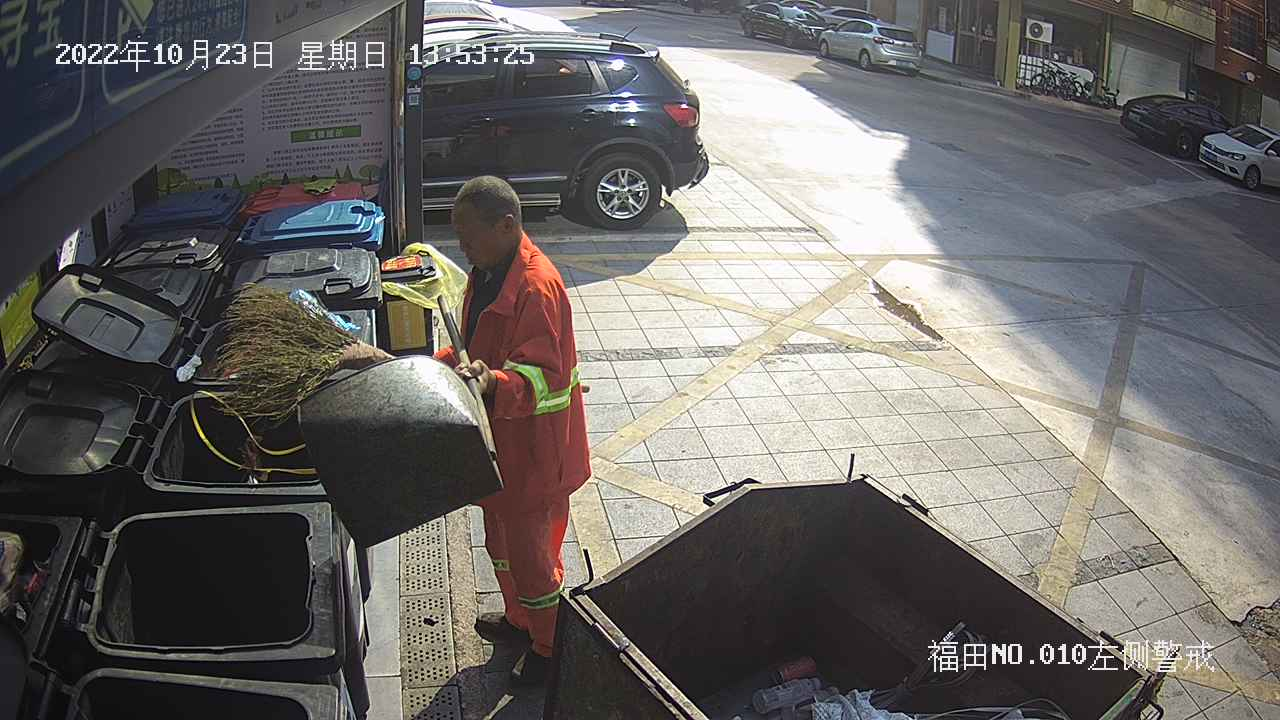worker: (414, 172, 602, 701)
